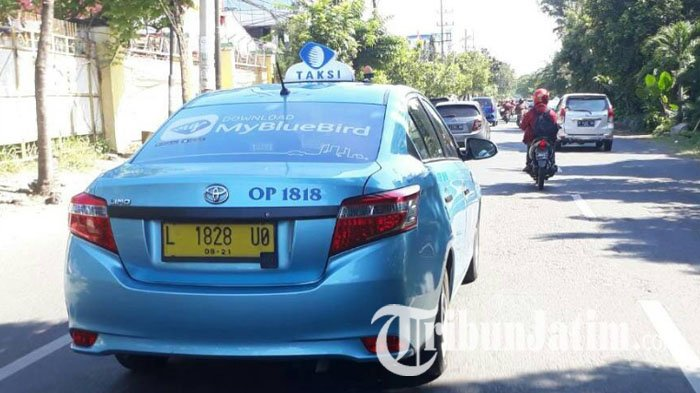plate: (163, 223, 274, 263)
